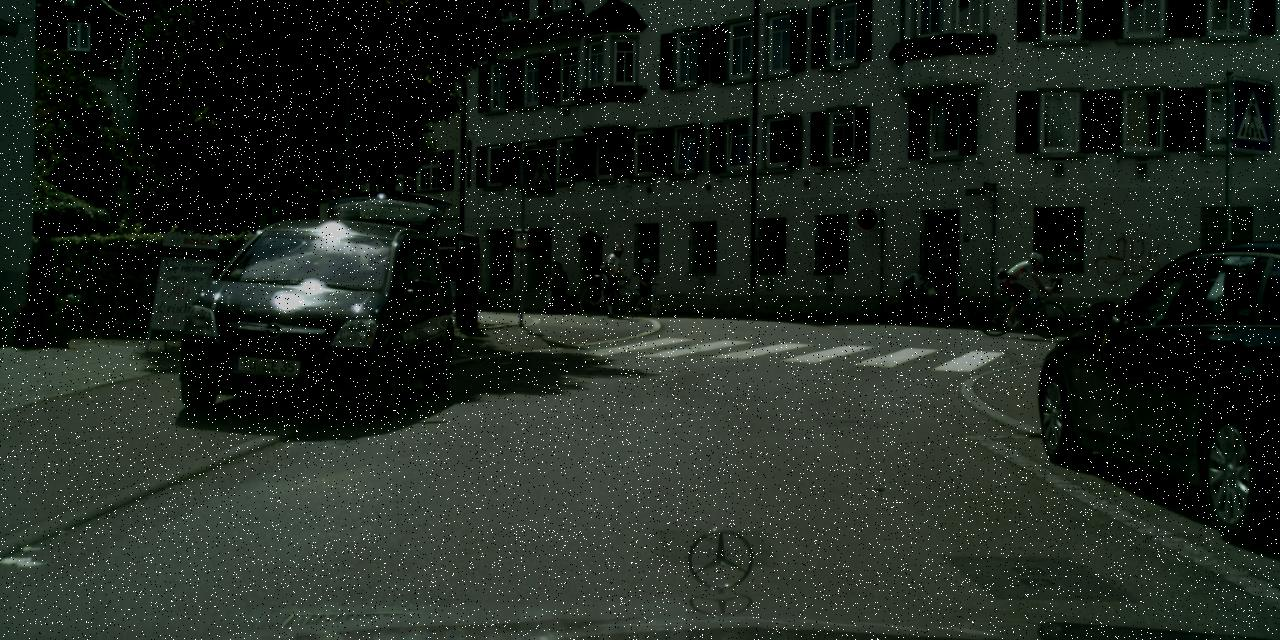ped: (925, 245, 954, 316), (596, 243, 624, 311), (937, 253, 963, 319), (1011, 253, 1037, 318), (635, 258, 657, 313)
